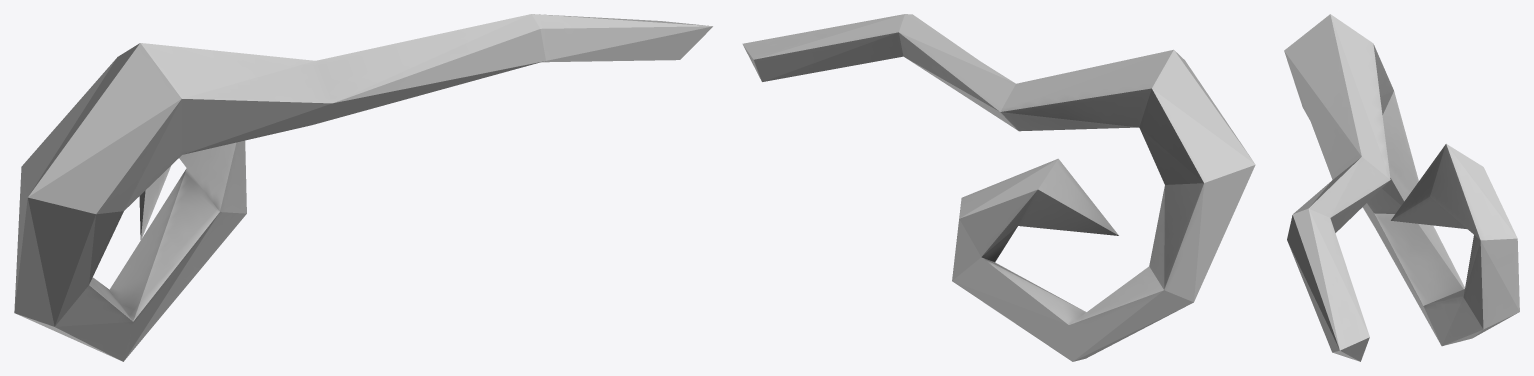
The model's file is Cloud_23.fbx.
3 views of the same model, side by side, from view 1: azimuth 30°, elevation 25°; view 2: azimuth 150°, elevation 25°; view 3: azimuth 270°, elevation 25° (orthographic). The views are drawn at different scales.
Parts seen in each view (by area): view 1: Cloud_23; view 2: Cloud_23; view 3: Cloud_23.
Part boxes in pixels (box(x1,y1,x2,y2)): Cloud_23: box(14, 14, 712, 361); Cloud_23: box(742, 14, 1255, 361); Cloud_23: box(1284, 14, 1519, 361).
Bounding box in the file's own units: 71.2 × 37.56 × 25.75.
